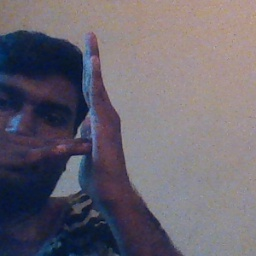Z: (12, 31, 132, 202)
